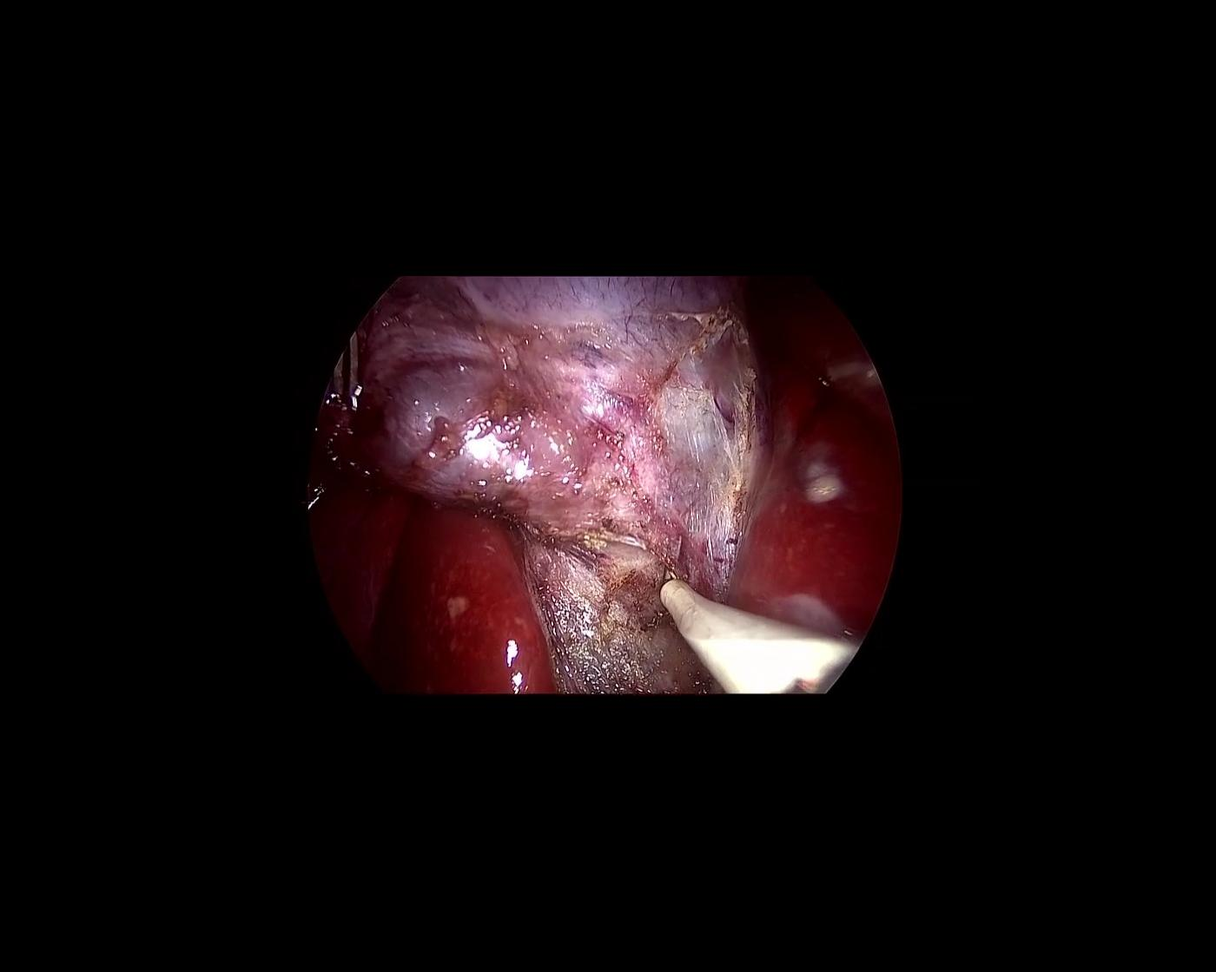Cautery: (621, 554, 858, 732)
Gallbladder: (351, 275, 736, 528)
Liver: (278, 366, 558, 744), (730, 279, 909, 639)
